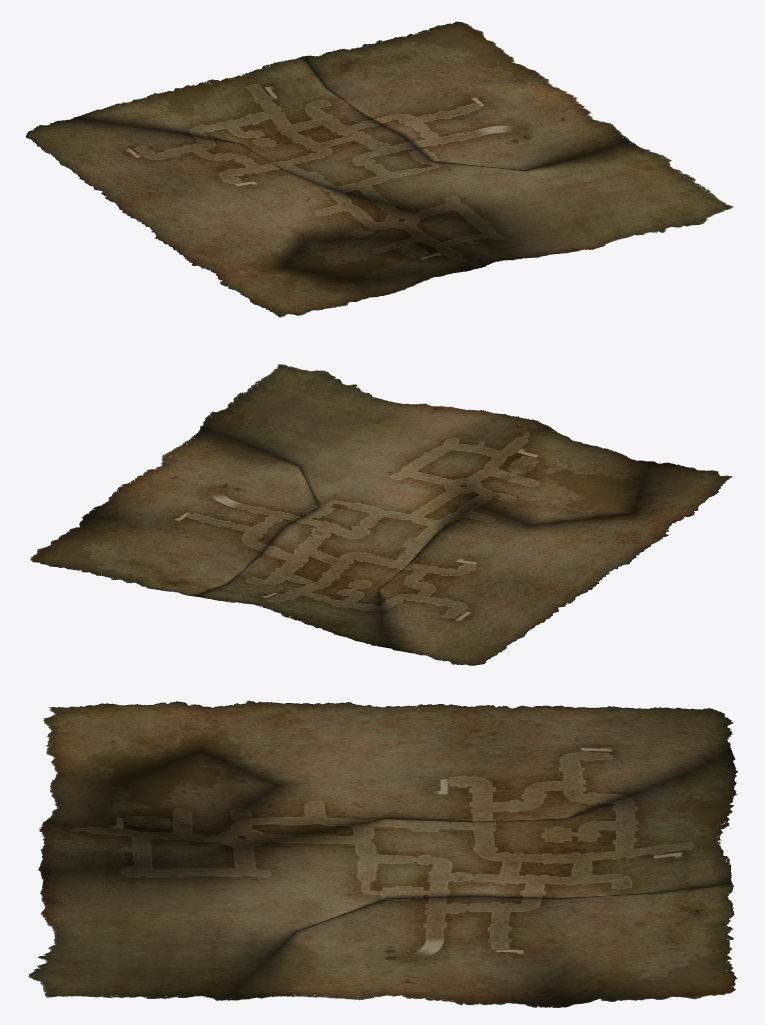
File: KM_ITEM_MAP_10.glb
3 renders of one model, top to bottom at view 1: azimuth 30°, elevation 25°; view 2: azimuth 150°, elevation 25°; view 3: azimuth 270°, elevation 25°, orthographic. The views are drawn at different scales.
Parts seen in each view (by area): view 1: Mesh; view 2: Mesh; view 3: Mesh.
Part boxes in pixels (bbox=[...]): Mesh: bbox=[25, 21, 733, 317]; Mesh: bbox=[30, 364, 732, 665]; Mesh: bbox=[28, 700, 737, 1007].
Bounding box in the file's own units: 0.5163 × 0.0205 × 0.532.
1 material, 1 textured.
